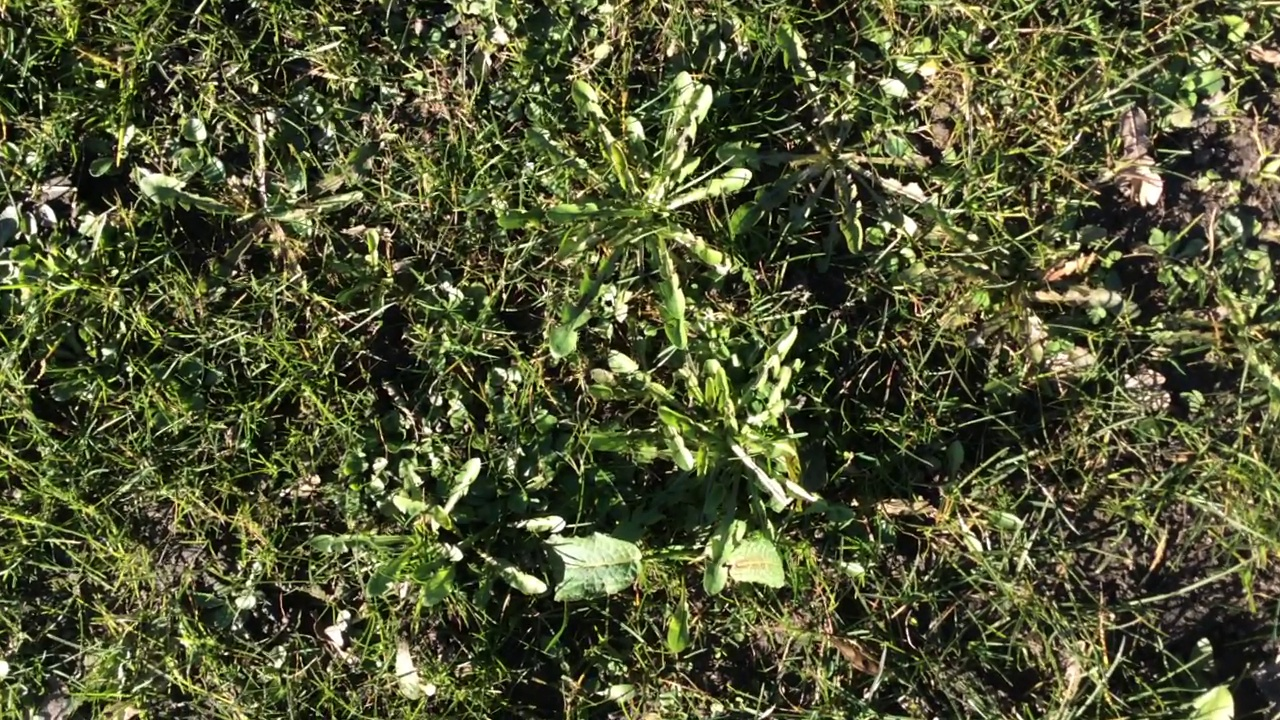rumex: (513, 535, 643, 601), (715, 542, 785, 583)
